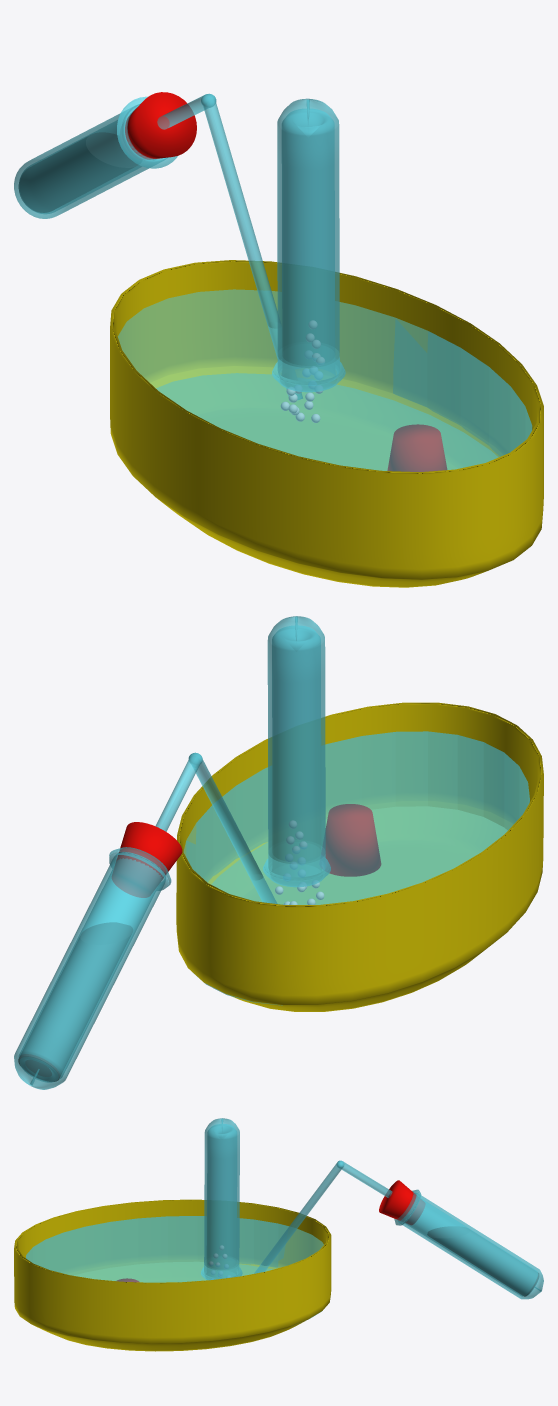
File: experiment_wasserstoff__sauerstoff_erzeugen.glb
The picture shows the model from 3 angles, top to bottom: view 1: azimuth 30°, elevation 25°; view 2: azimuth 150°, elevation 25°; view 3: azimuth 270°, elevation 25°; orthographic projection. The views are drawn at different scales.
Parts seen in each view (by area): view 1: Object_2, Object_26, Object_4, Object_3; view 2: Object_2, Object_26, Object_3, Object_4; view 3: Object_2, Object_26, Object_3, Object_4.
Boxes of the visible parts, <box> form: Object_2: <box>110,260,543,587</box>; Object_26: <box>14,93,532,471</box>; Object_4: <box>125,92,447,471</box>; Object_3: <box>18,132,137,212</box>; Object_2: <box>176,702,543,1011</box>; Object_26: <box>14,616,529,1089</box>; Object_3: <box>18,922,132,1081</box>; Object_4: <box>112,804,381,897</box>; Object_2: <box>14,1199,331,1351</box>; Object_26: <box>26,1118,543,1318</box>; Object_3: <box>427,1226,539,1296</box>; Object_4: <box>116,1180,424,1282</box>.
Size of the model in its own units: 7.71 by 10.84 by 20.27.
